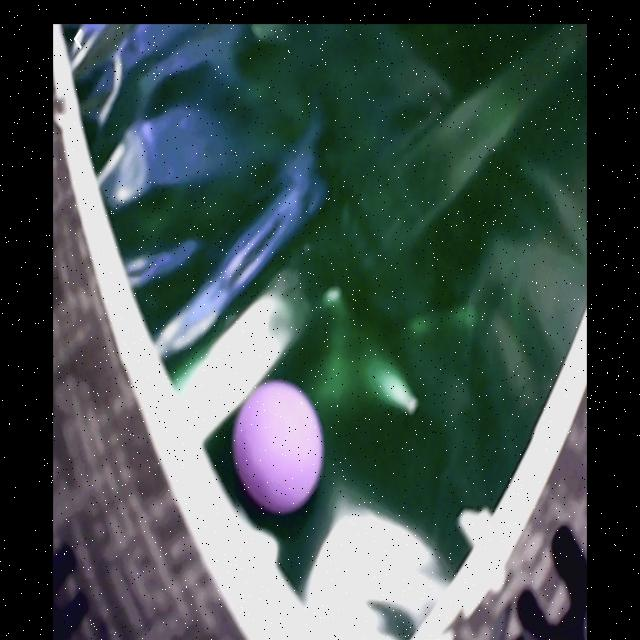ball: (233, 380, 321, 512)
